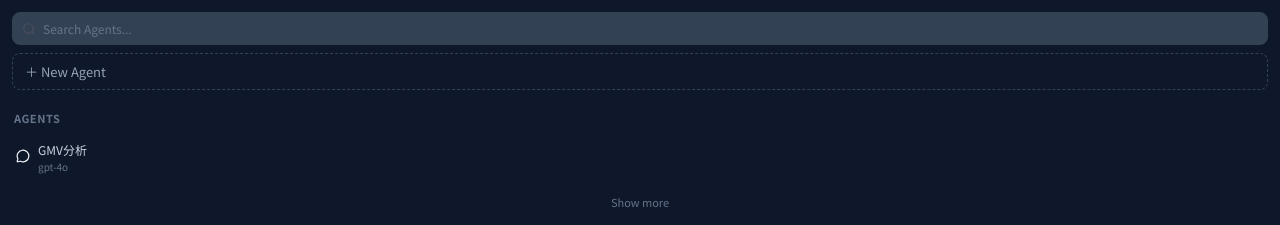
Test case: Phase 2 - 双击重命名 › Enter 确认重命名
The width and height of the screenshot is (1280, 225).
Double-click the text "GMV分析" at (62,150), box [38,141,87,158]
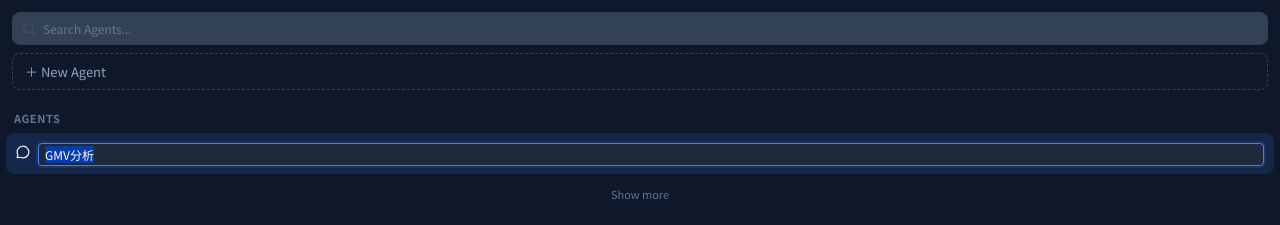
Replace the text in the 2nd field with "新名称" at (651,154), box [38,143,1264,166]
Then press Enter
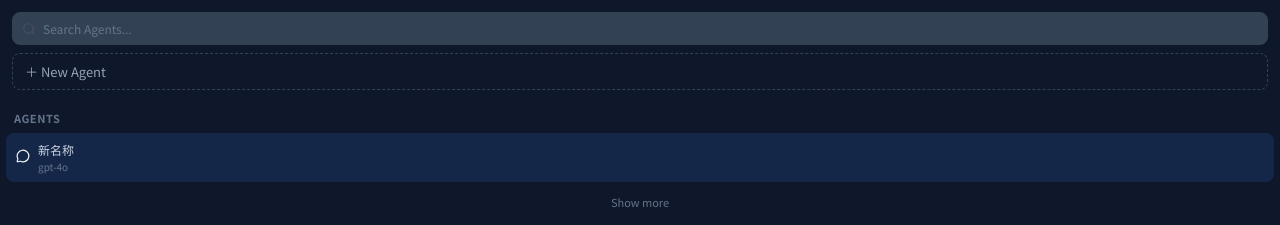
Now the text "新名称" is shown, box [38,141,74,158]
Now the field is gone
